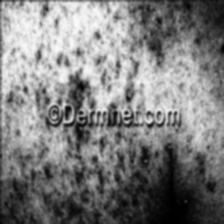Non-Cancerous Skin Condition: (48, 152, 172, 224), (74, 122, 90, 148), (154, 18, 162, 30)
